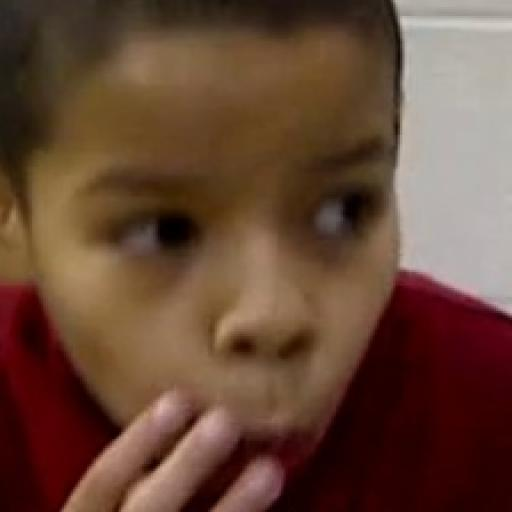Autism: (10, 5, 414, 512)
